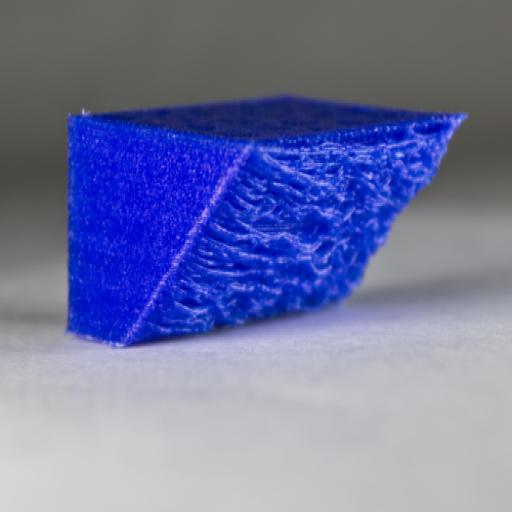stringing: (136, 114, 462, 356)
